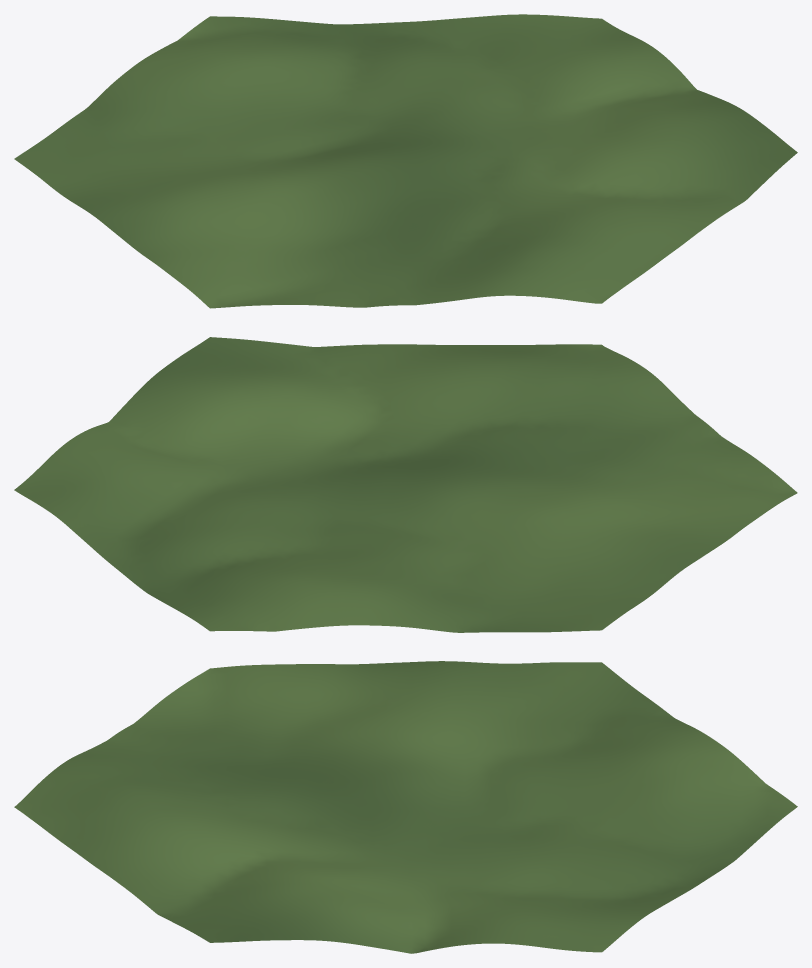
The picture shows the model from 3 angles, top to bottom: view 1: azimuth 30°, elevation 25°; view 2: azimuth 150°, elevation 25°; view 3: azimuth 270°, elevation 25°; orthographic projection.
Visible parts, largest first — view 1: JS_-1_13; view 2: JS_-1_13; view 3: JS_-1_13.
Boxes of the visible parts, box(x1,y1,x2,y2) form: JS_-1_13: box(14, 14, 797, 308); JS_-1_13: box(14, 337, 797, 632); JS_-1_13: box(14, 661, 797, 953).
Bounding box in the file's own units: 4330 × 160 × 5000.
